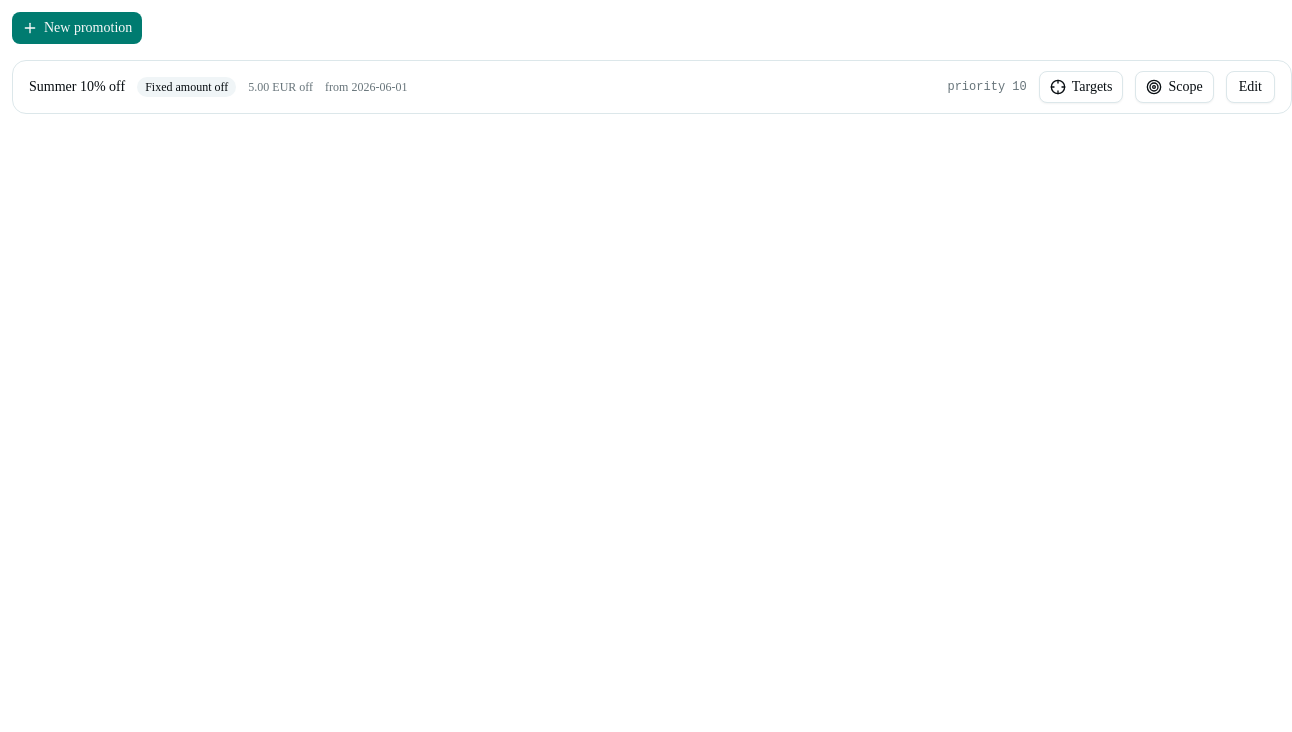
Test: <PromotionBrowser> › fixes the type and the currency once a promotion exists
Click the button with aria-label "Edit Summer 10% off". click: (1250, 87)
box: left=1226, top=71, right=1275, bottom=103
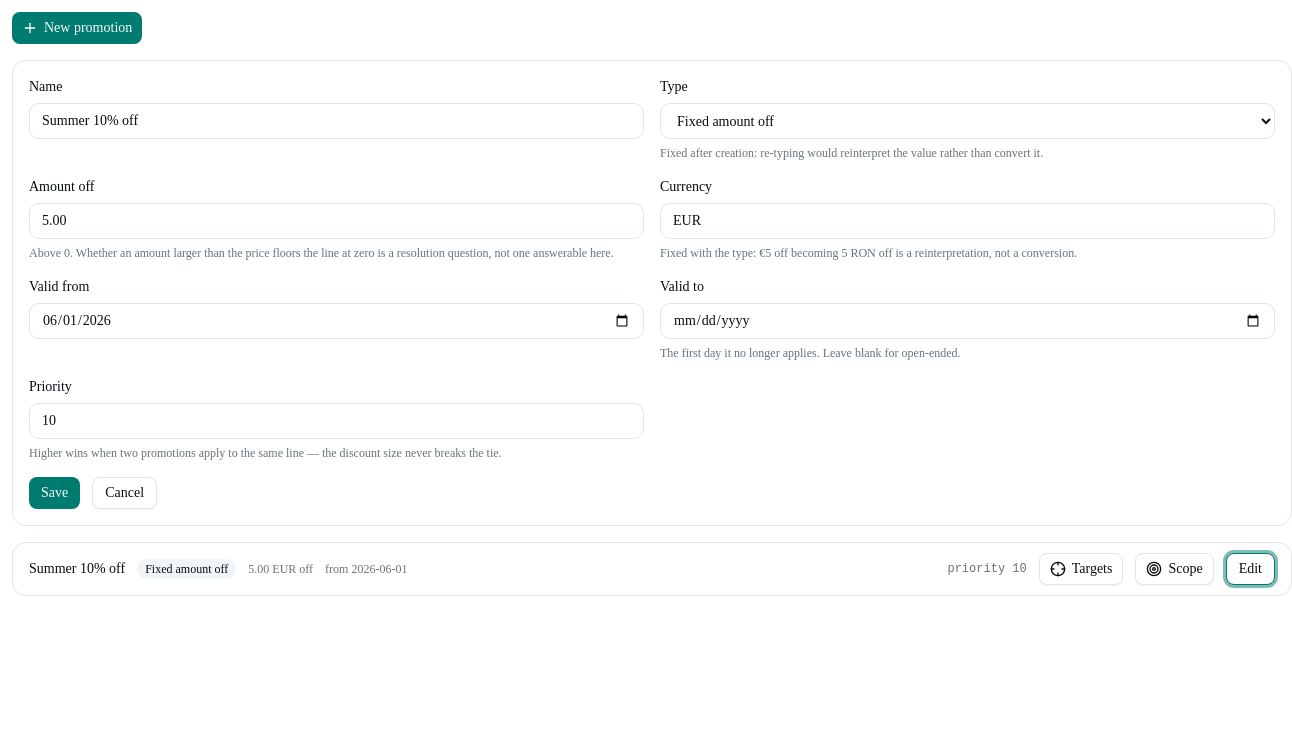
Expected: the dropdown labelled "Type" is disabled, left=660, top=103, right=1275, bottom=139
Expected: the field labelled "Currency" is disabled, left=660, top=203, right=1275, bottom=239
